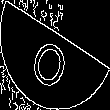O_NE: (31, 22, 79, 88)
